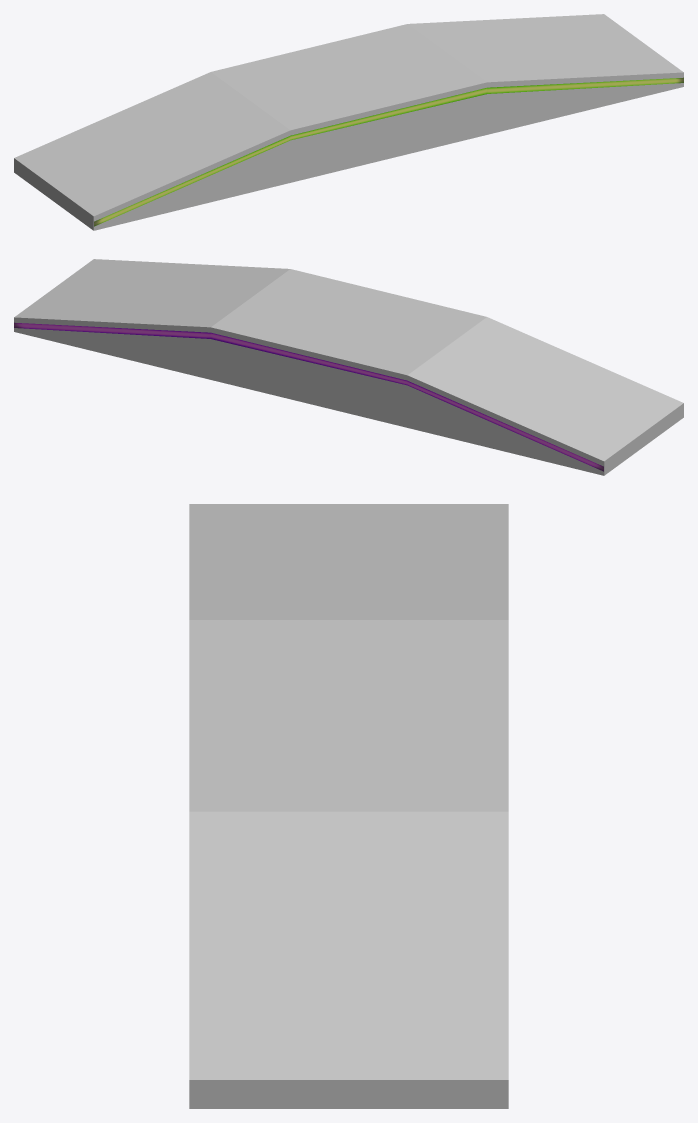
The model's file is bldg_mall_10_h01.fbx.
3 renders of one model, top to bottom at view 1: azimuth 30°, elevation 25°; view 2: azimuth 150°, elevation 25°; view 3: azimuth 270°, elevation 25°, orthographic. The views are drawn at different scales.
Visible parts, largest first — view 1: bldg_mall_10_h01; view 2: bldg_mall_10_h01; view 3: bldg_mall_10_h01.
Boxes of the visible parts, <box> form: bldg_mall_10_h01: <box>14,14,683,230</box>; bldg_mall_10_h01: <box>14,259,683,475</box>; bldg_mall_10_h01: <box>189,504,508,1108</box>.
Size of the model in its own units: 36.4 by 3.1 by 8.53.
